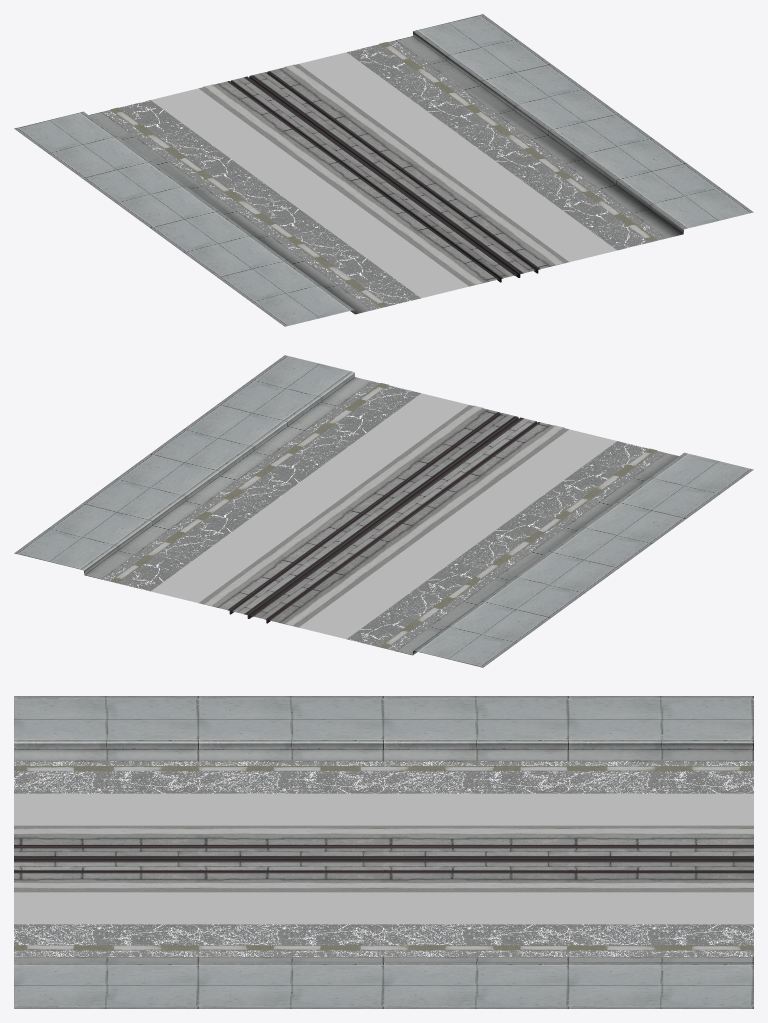
File: RoadRail.obj
The picture shows the model from 3 angles, top to bottom: view 1: azimuth 30°, elevation 25°; view 2: azimuth 150°, elevation 25°; view 3: azimuth 270°, elevation 25°; orthographic projection. The views are drawn at different scales.
Visible parts, largest first — view 1: Road_Rail; view 2: Road_Rail; view 3: Road_Rail.
Boxes of the visible parts, x1=… form: Road_Rail: x1=14, y1=14, x2=753, y2=326; Road_Rail: x1=14, y1=355, x2=753, y2=667; Road_Rail: x1=14, y1=696, x2=753, y2=1008.
Size of the model in its own units: 20 by 0.34 by 20.
